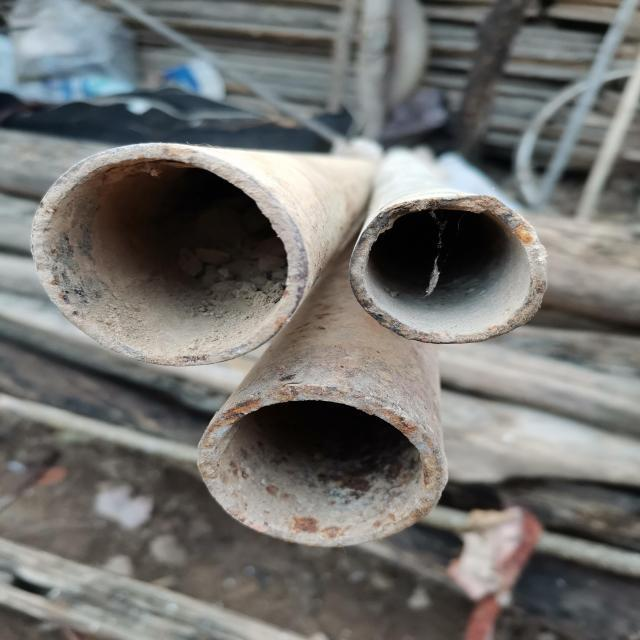pipe: (29, 146, 310, 370), (194, 384, 448, 550), (350, 195, 550, 347)
